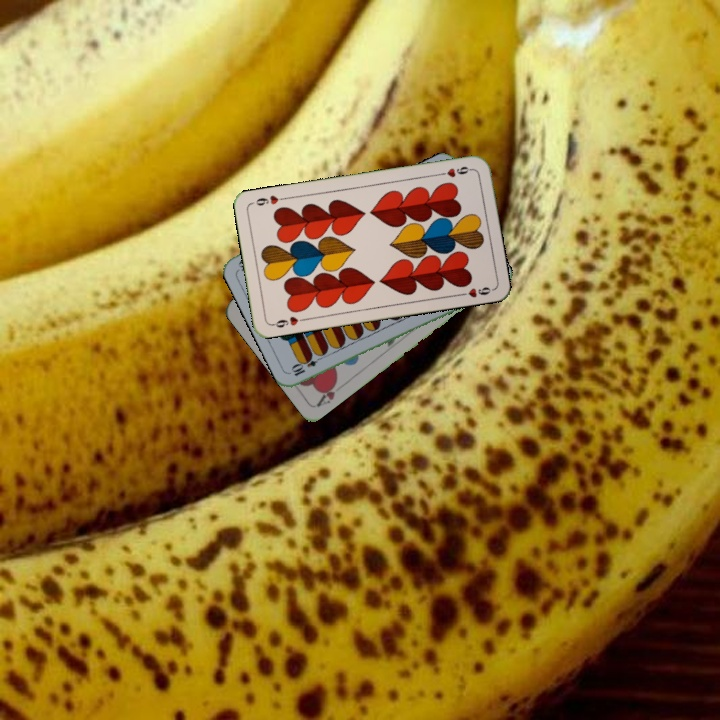E10: (287, 351, 326, 379)
H9: (268, 312, 308, 330), (435, 162, 475, 180)
HA: (312, 376, 341, 409)
